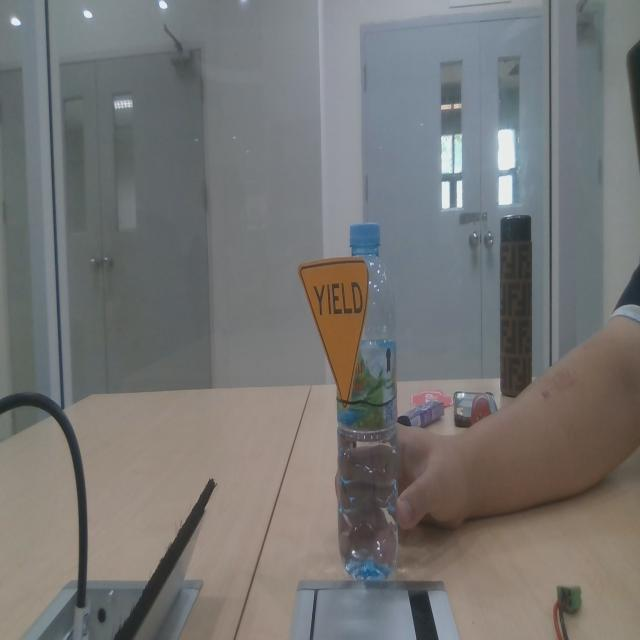Yield: (292, 249, 382, 430)
